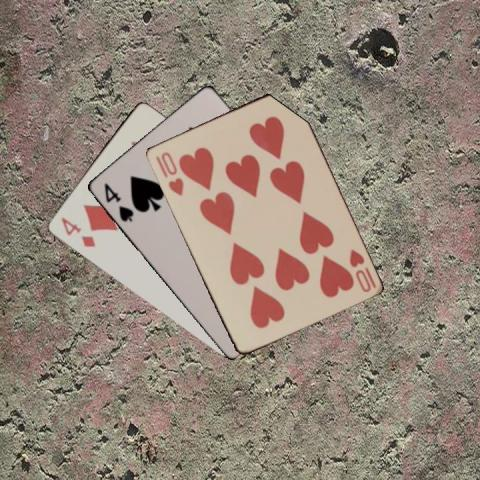10h: (152, 149, 185, 197), (346, 246, 377, 294)
4d: (57, 214, 97, 249)
4s: (100, 180, 135, 224)
